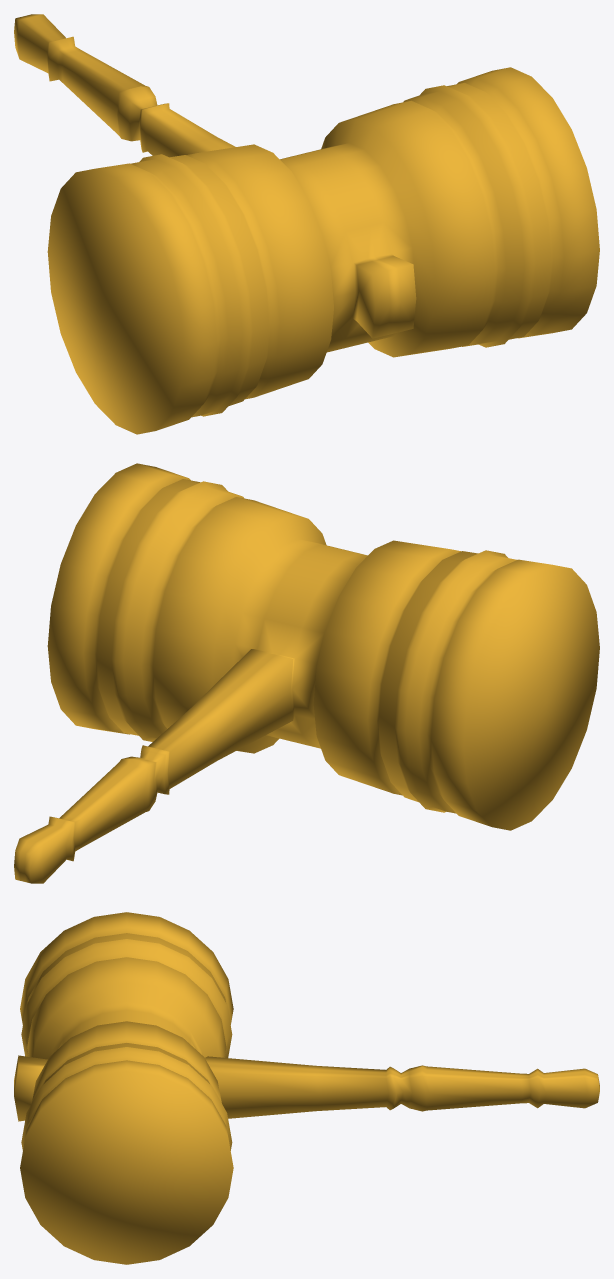
The model's file is Toy_hammer.fbx.
3 renders of one model, top to bottom at view 1: azimuth 30°, elevation 25°; view 2: azimuth 150°, elevation 25°; view 3: azimuth 270°, elevation 25°, orthographic. The views are drawn at different scales.
Parts seen in each view (by area): view 1: Toy_hammer; view 2: Toy_hammer; view 3: Toy_hammer.
Part boxes in pixels (<box>): Toy_hammer: <box>14,14,599,434</box>; Toy_hammer: <box>14,463,599,883</box>; Toy_hammer: <box>14,912,599,1264</box>.
Size of the model in its own units: 422 by 224 by 613.
